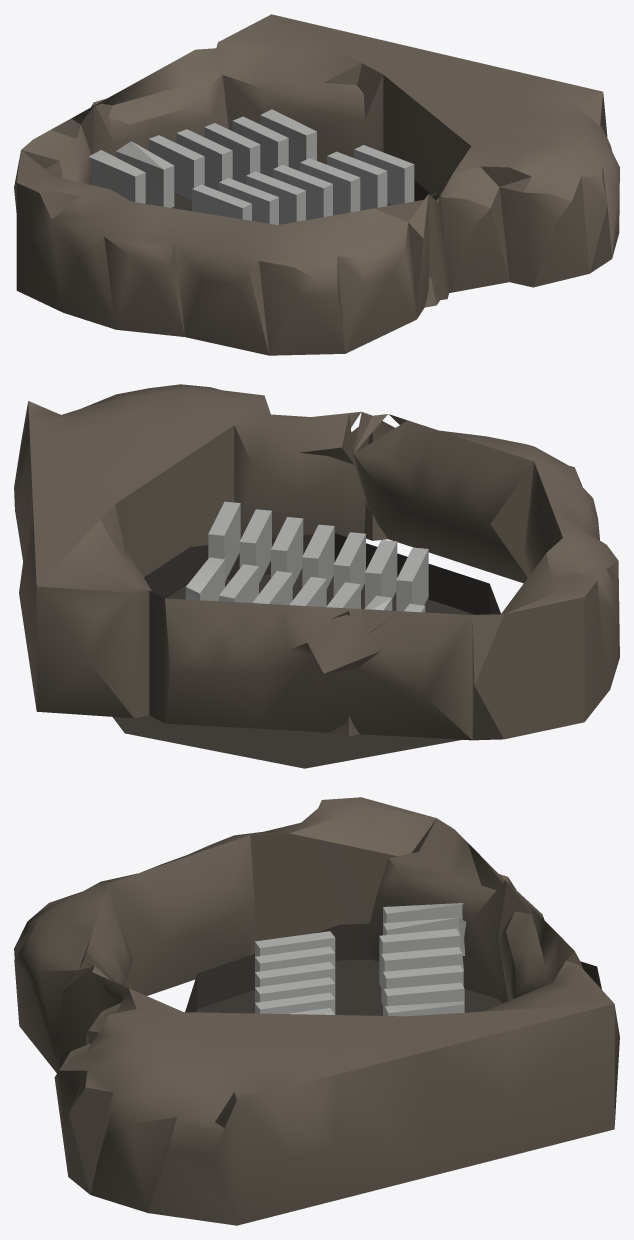
File: crash-site-spaceship-wreck-medium-1.glb
3 renders of one model, top to bottom at view 1: azimuth 30°, elevation 25°; view 2: azimuth 150°, elevation 25°; view 3: azimuth 270°, elevation 25°, orthographic. The views are drawn at different scales.
Visible parts, largest first — view 1: body; view 2: body; view 3: body.
Boxes of the visible parts, x1,y1,x2,y2 form: body: [14, 14, 619, 355]; body: [14, 384, 619, 768]; body: [14, 797, 619, 1225].
Bounding box in the file's own units: 2.17 × 0.4281 × 1.84.
